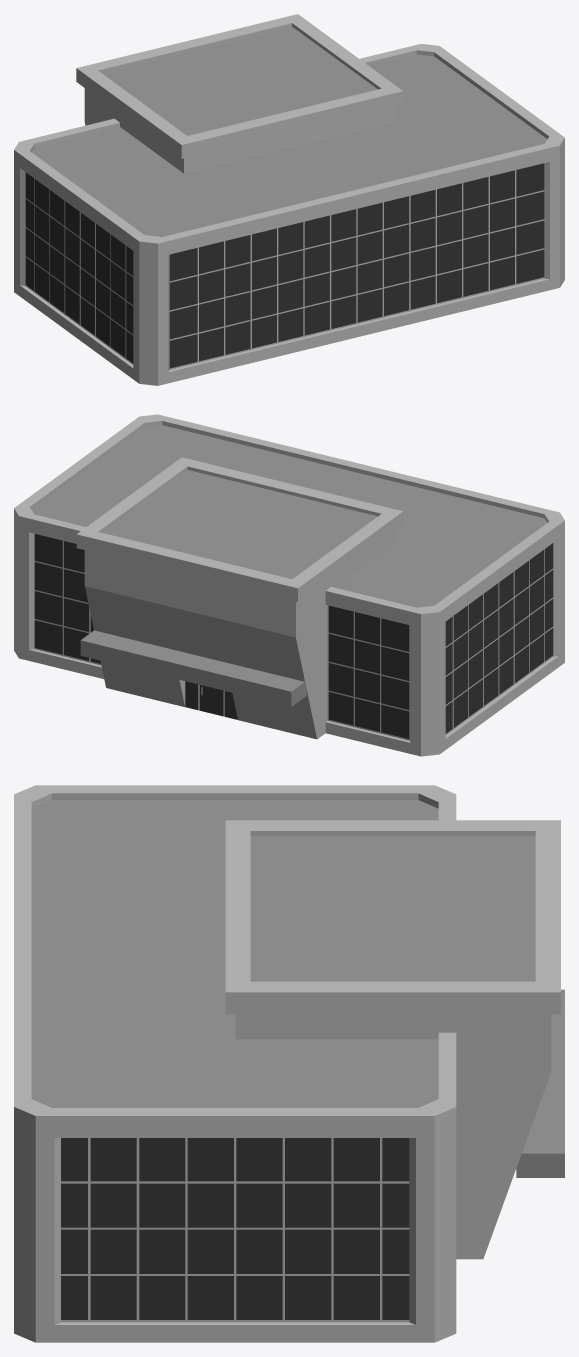
The model's file is spw-urban-bldg-11.glb.
The picture shows the model from 3 angles, top to bottom: view 1: azimuth 30°, elevation 25°; view 2: azimuth 150°, elevation 25°; view 3: azimuth 270°, elevation 25°; orthographic projection. The views are drawn at different scales.
Parts seen in each view (by area): view 1: SPW_Urban_Bldg_11; view 2: SPW_Urban_Bldg_11; view 3: SPW_Urban_Bldg_11.
Boxes of the visible parts, left/top/right/bottom form: SPW_Urban_Bldg_11: left=14, top=14, right=564, bottom=385; SPW_Urban_Bldg_11: left=14, top=414, right=564, bottom=756; SPW_Urban_Bldg_11: left=14, top=785, right=564, bottom=1342.
Bounding box in the file's own units: 32.2 × 12.3 × 22.67.
Materials: 1 (1 with a texture image).
